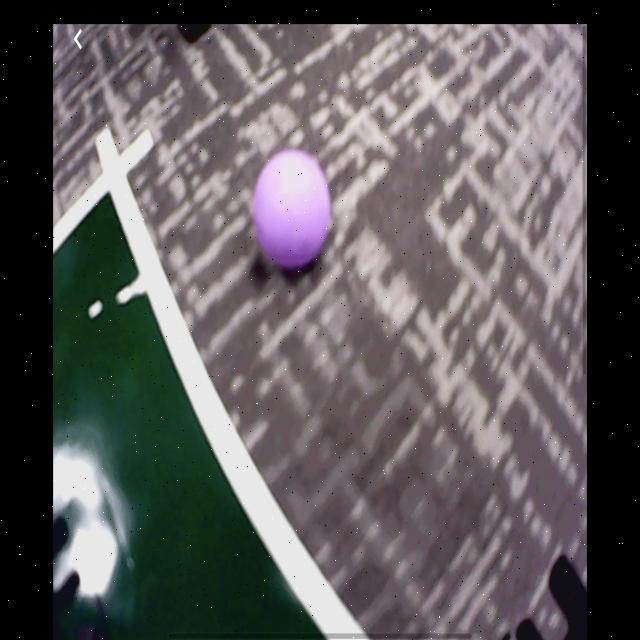ball: (257, 154, 331, 270)
